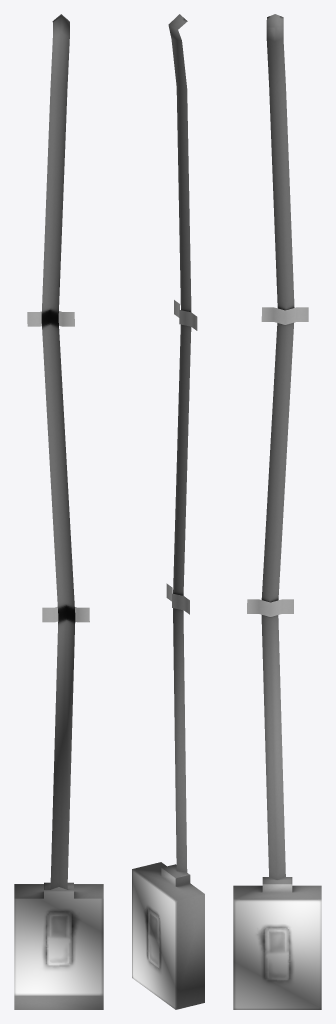
File: light_switcher.fbx
3 views of the same model, side by side, from view 1: azimuth 90°, elevation 25°; view 2: azimuth 210°, elevation 25°; view 3: azimuth 270°, elevation 25° (orthographic). The views are drawn at different scales.
Visible parts, largest first — view 1: Cube; view 2: Cube; view 3: Cube.
Boxes of the visible parts, bbox=[...] form: Cube: bbox=[14, 14, 103, 1009]; Cube: bbox=[132, 14, 204, 1009]; Cube: bbox=[233, 14, 321, 1009].
Bounding box in the file's own units: 0.0608 × 1.83 × 0.1488.
